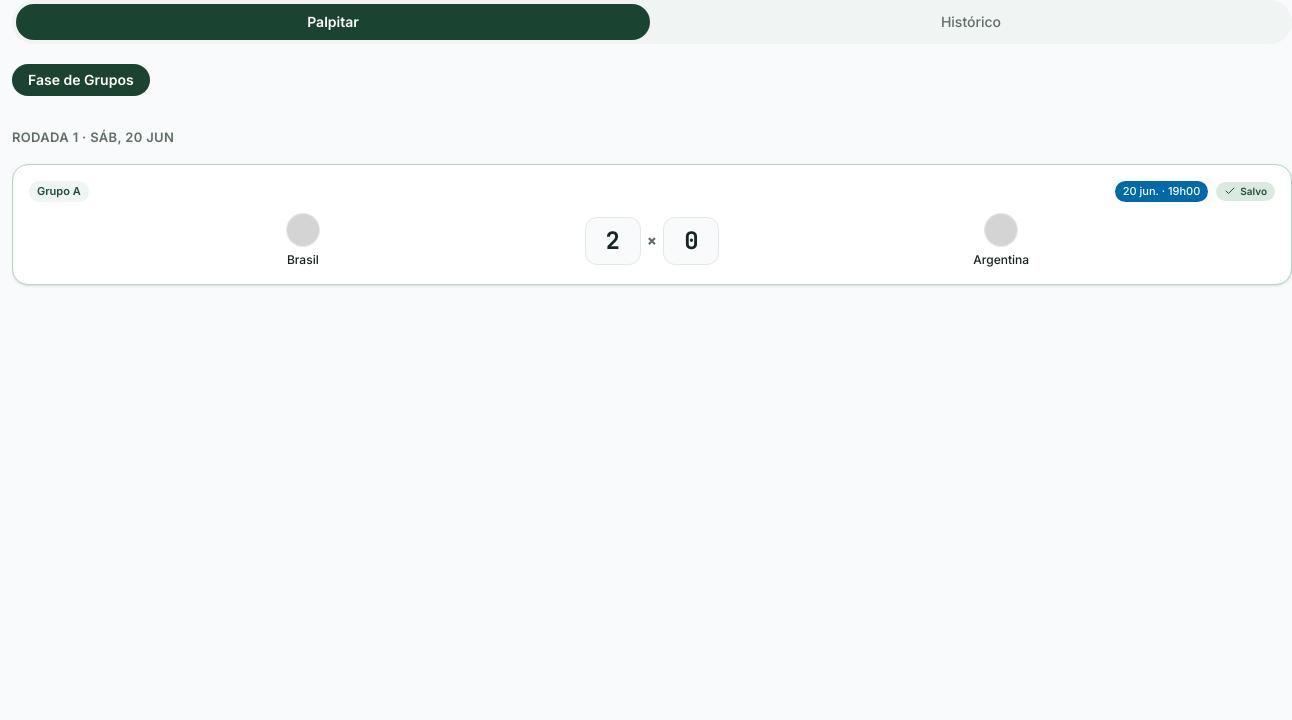
it: PalpitesContent › marca pendente quando o gol do mandante difere do palpite salvo
# Limpa (valor "") e redigita: mandante diferente do salvo, visitante igual.
Replace the text in the field named "gols do brasil" with "3" at (613, 240), box [585,216,641,264]
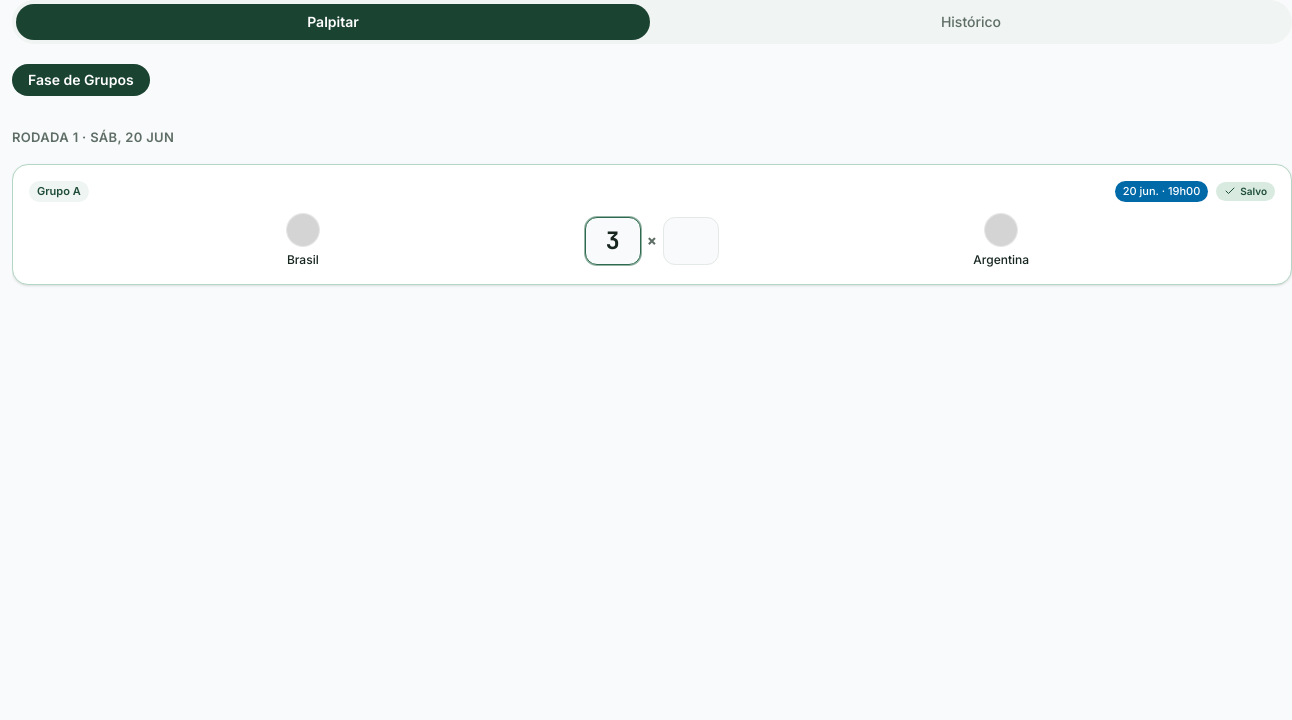
Type "0" into the field named "gols do argentina".
click(691, 240); type("0")  # box [663,216,719,264]
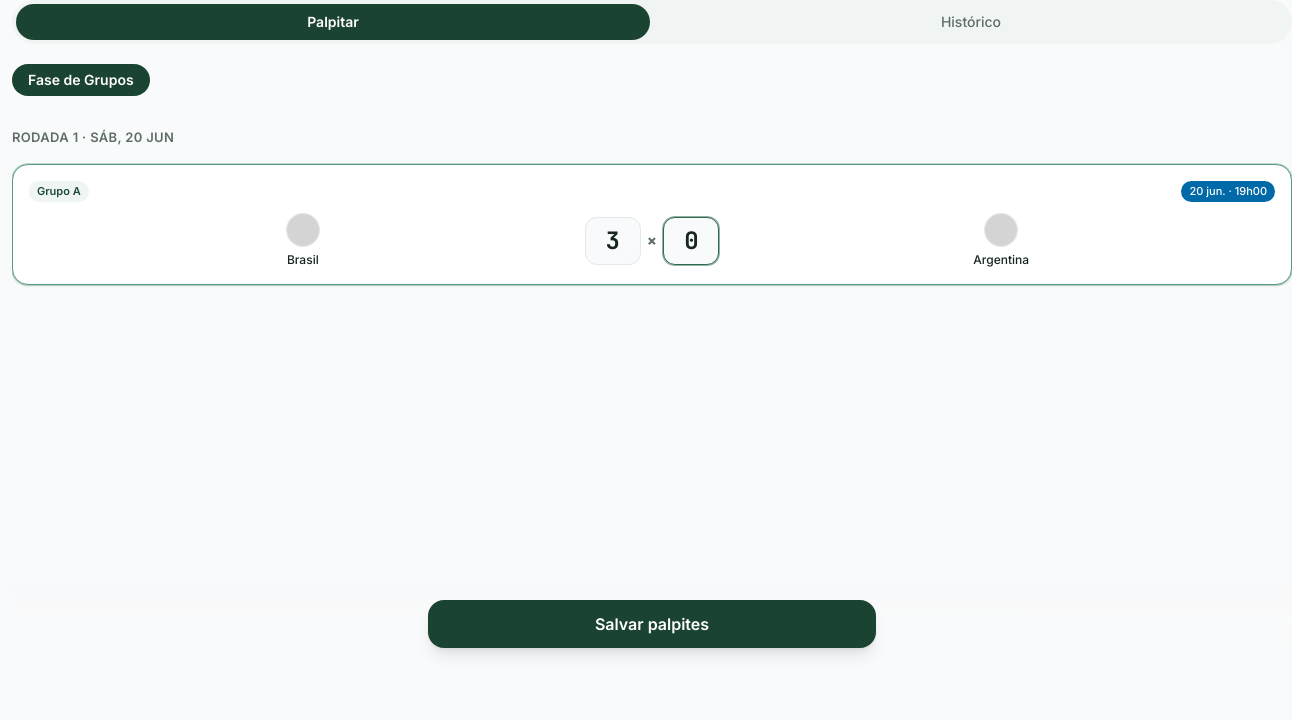
Expected: the button "Salvar palpites" is shown, [428,600,876,648]
